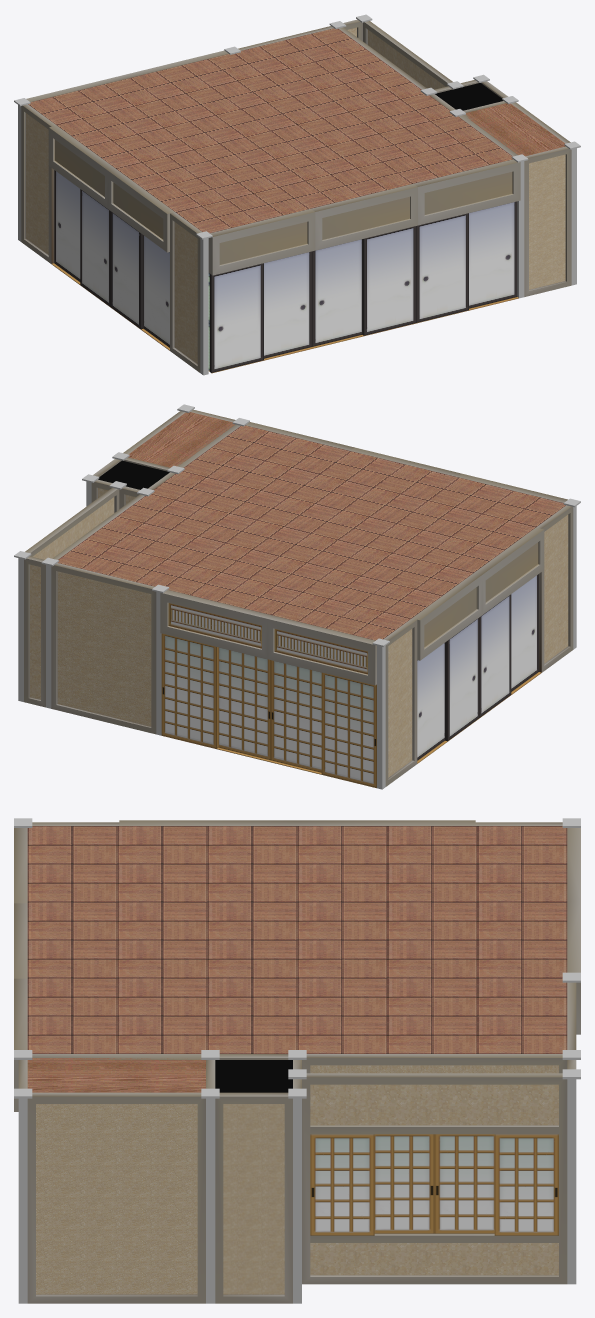
File: Sample_livingroom_18jyo.fbx
3 renders of one model, top to bottom at view 1: azimuth 30°, elevation 25°; view 2: azimuth 150°, elevation 25°; view 3: azimuth 270°, elevation 25°, orthographic. The views are drawn at different scales.
Visible parts, largest first — view 1: tenjyo, door1 (×4), door2 (×4), husuma01, tutikabe05, husuma011, husuma012, husuma013, door3, tenjyo1, door4, tutikabe01 (+7 smaller); view 2: tenjyo, husuma01, tutikabe019, husuma02, door2 (×2), door1 (×2), door3 (×2), door4 (×2), tutikabe01, tenjyo1, hashira01, black03 (+8 smaller); view 3: tenjyo, tutikabe04, tutikabe01, husuma09, door03, door04, tenjyo1, door01, door02, tutikabe02, husuma01, black03 (+10 smaller).
Part boxes in pixels (bbox=[...]): tenjyo: bbox=[28, 28, 512, 233]; door1 (×4): bbox=[110, 211, 468, 372]; door2 (×4): bbox=[143, 201, 517, 358]; husuma01: bbox=[21, 104, 202, 372]; tutikabe05: bbox=[524, 146, 571, 296]; husuma011: bbox=[208, 208, 315, 373]; husuma012: bbox=[311, 183, 417, 348]; husuma013: bbox=[414, 159, 520, 323]; door3: bbox=[80, 189, 110, 306]; tenjyo1: bbox=[466, 103, 565, 156]; door4: bbox=[54, 170, 80, 281]; tutikabe01: bbox=[343, 19, 452, 92]; tenjyo: bbox=[58, 425, 565, 640]; husuma01: bbox=[383, 505, 573, 786]; tutikabe019: bbox=[51, 563, 156, 734]; husuma02: bbox=[160, 590, 376, 788]; door2 (×2): bbox=[161, 574, 538, 748]; door1 (×2): bbox=[218, 594, 511, 760]; door3 (×2): bbox=[271, 617, 479, 772]; door4 (×2): bbox=[321, 643, 444, 787]; tutikabe01: bbox=[24, 486, 139, 707]; tenjyo1: bbox=[128, 412, 234, 467]; hashira01: bbox=[372, 638, 389, 789]; black03: bbox=[98, 460, 169, 489]; tenjyo: bbox=[27, 826, 567, 1053]; tutikabe04: bbox=[27, 1092, 205, 1303]; tutikabe01: bbox=[293, 1060, 576, 1284]; husuma09: bbox=[215, 1092, 292, 1303]; door03: bbox=[494, 1134, 558, 1235]; door04: bbox=[310, 1134, 374, 1235]; tenjyo1: bbox=[27, 1058, 205, 1092]; door01: bbox=[434, 1134, 494, 1233]; door02: bbox=[374, 1134, 434, 1233]; tutikabe02: bbox=[302, 1054, 567, 1073]; husuma01: bbox=[32, 820, 562, 825]; black03: bbox=[215, 1060, 292, 1092].
Size of the model in its own units: 1440 by 505 by 1240.
